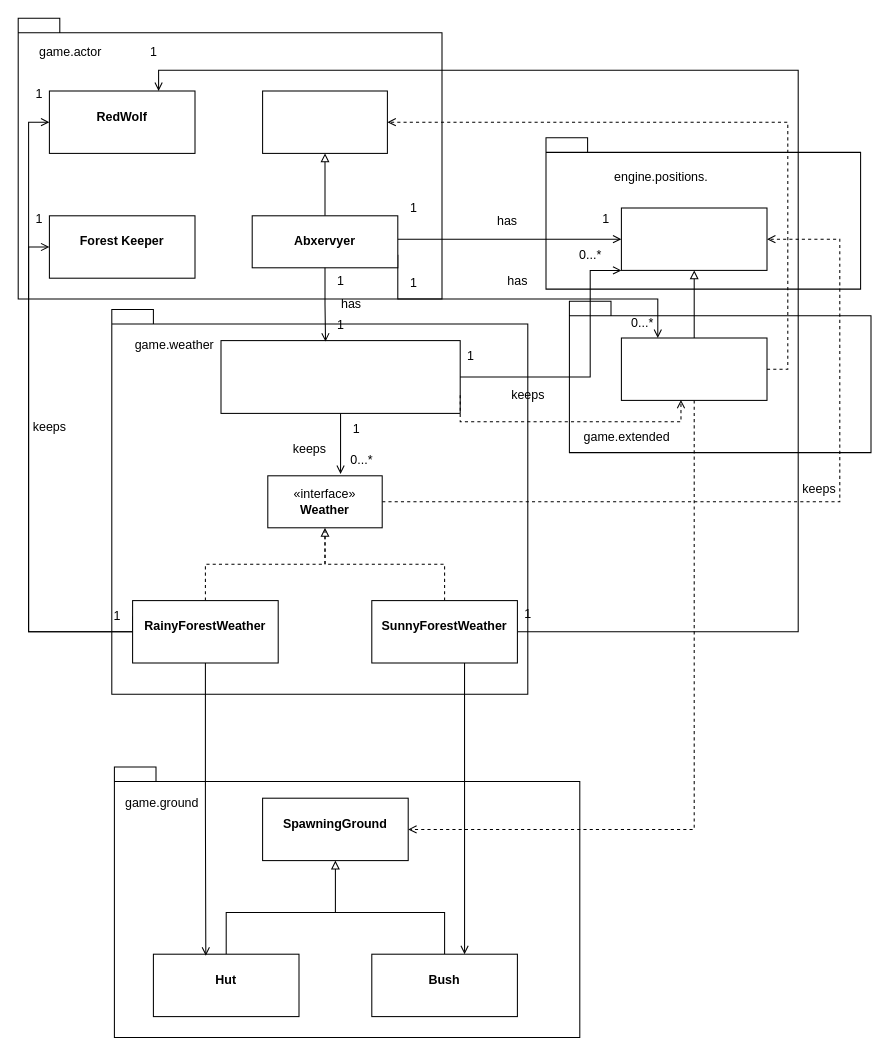
The diagram is 889 pixels wide and 1056 high, and some of its shapes have lost their labels. Each missing label, with the centre of its shape:
AncientWoodsWeatherController: the point at 340,376
ForestGameMap: the point at 693,368
GameMap: the point at 693,238
«abstract» EnemyActor: the point at 324,121
